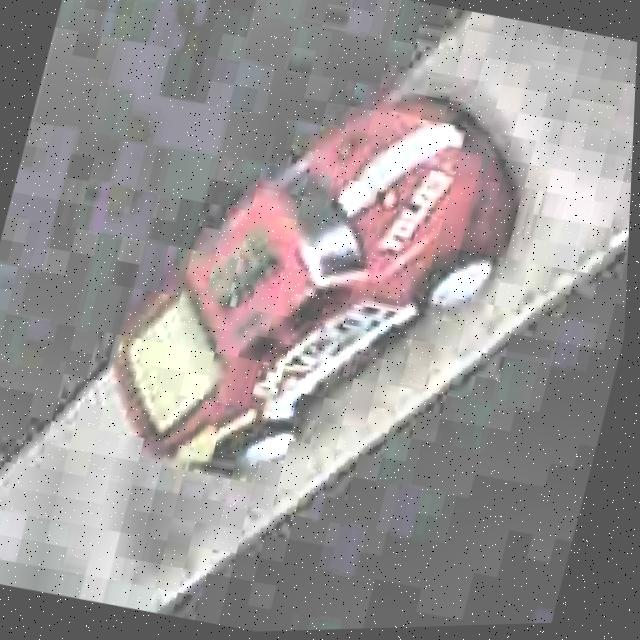car: (76, 36, 550, 532)
